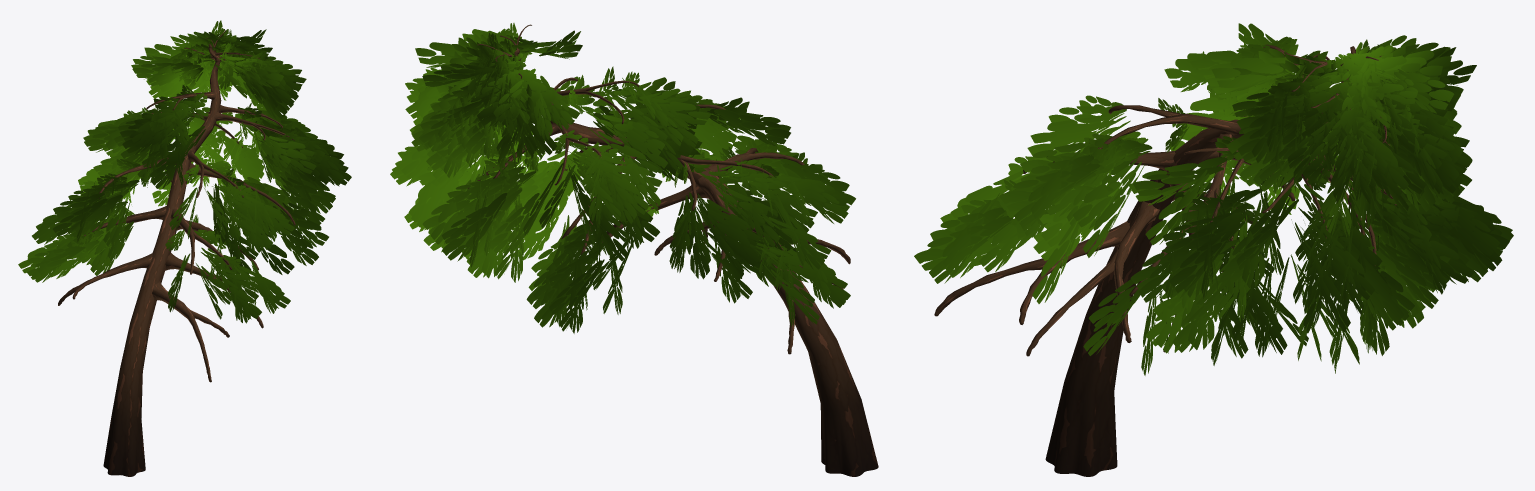
The model's file is GiantPine_5.gltf.
The picture shows the model from 3 angles, left to right: view 1: azimuth 30°, elevation 25°; view 2: azimuth 150°, elevation 25°; view 3: azimuth 270°, elevation 25°; orthographic projection. The views are drawn at different scales.
Visible parts, largest first — view 1: GiantPine_5; view 2: GiantPine_5; view 3: GiantPine_5.
Part boxes in pixels (<box>): GiantPine_5: <box>18,20,351,476</box>; GiantPine_5: <box>390,23,878,476</box>; GiantPine_5: <box>914,23,1513,476</box>.
Bounding box in the file's own units: 15.89 × 15.94 × 15.67.
2 materials, 2 textured.
